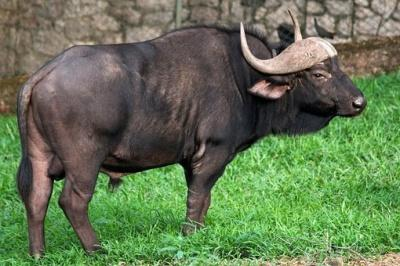buffalo: (15, 26, 368, 260)
